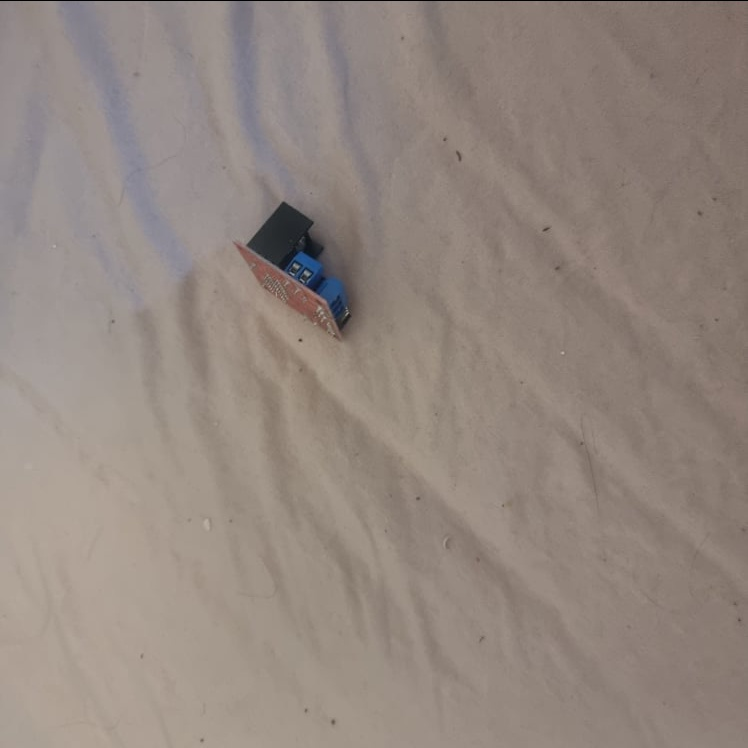MOTOR: (235, 199, 356, 337)
